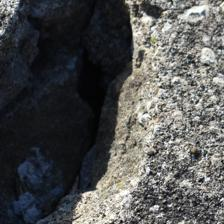Crack: (16, 3, 133, 219)
